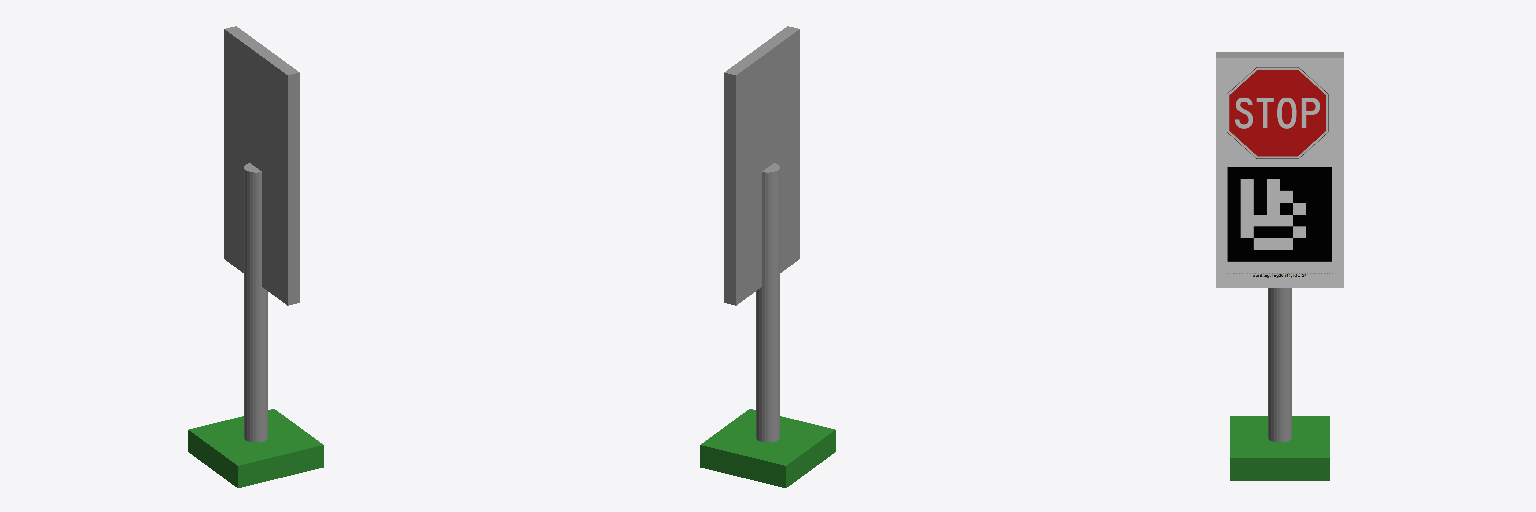
The picture shows the model from 3 angles: view 1: azimuth 30°, elevation 25°; view 2: azimuth 150°, elevation 25°; view 3: azimuth 270°, elevation 25°; orthographic projection.
Parts seen in each view (by area): view 1: SketchUp.002_ID23, SketchUp_ID2, SketchUp.001_ID10; view 2: SketchUp.002_ID23, SketchUp_ID2, SketchUp.001_ID10; view 3: SketchUp.003_ID31, SketchUp_ID2, SketchUp.001_ID10, SketchUp.002_ID23.
Boxes of the visible parts, x1,y1,x2,y2 form: SketchUp.002_ID23: [224, 26, 299, 305]; SketchUp_ID2: [188, 409, 323, 487]; SketchUp.001_ID10: [244, 163, 267, 441]; SketchUp.002_ID23: [724, 26, 799, 305]; SketchUp_ID2: [700, 409, 835, 487]; SketchUp.001_ID10: [756, 163, 779, 441]; SketchUp.003_ID31: [1216, 58, 1343, 287]; SketchUp_ID2: [1230, 416, 1329, 480]; SketchUp.001_ID10: [1268, 288, 1291, 441]; SketchUp.002_ID23: [1216, 52, 1343, 57].
Size of the model in its own units: 0.0508 by 0.2301 by 0.065.
Materials: 3 (1 with a texture image).